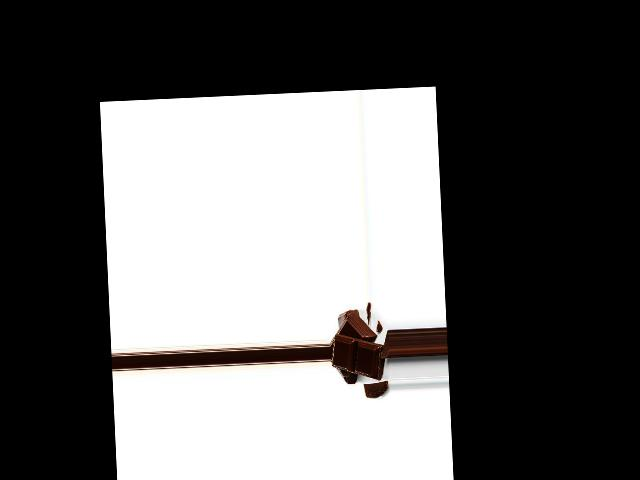chocolate: (332, 331, 384, 380)
